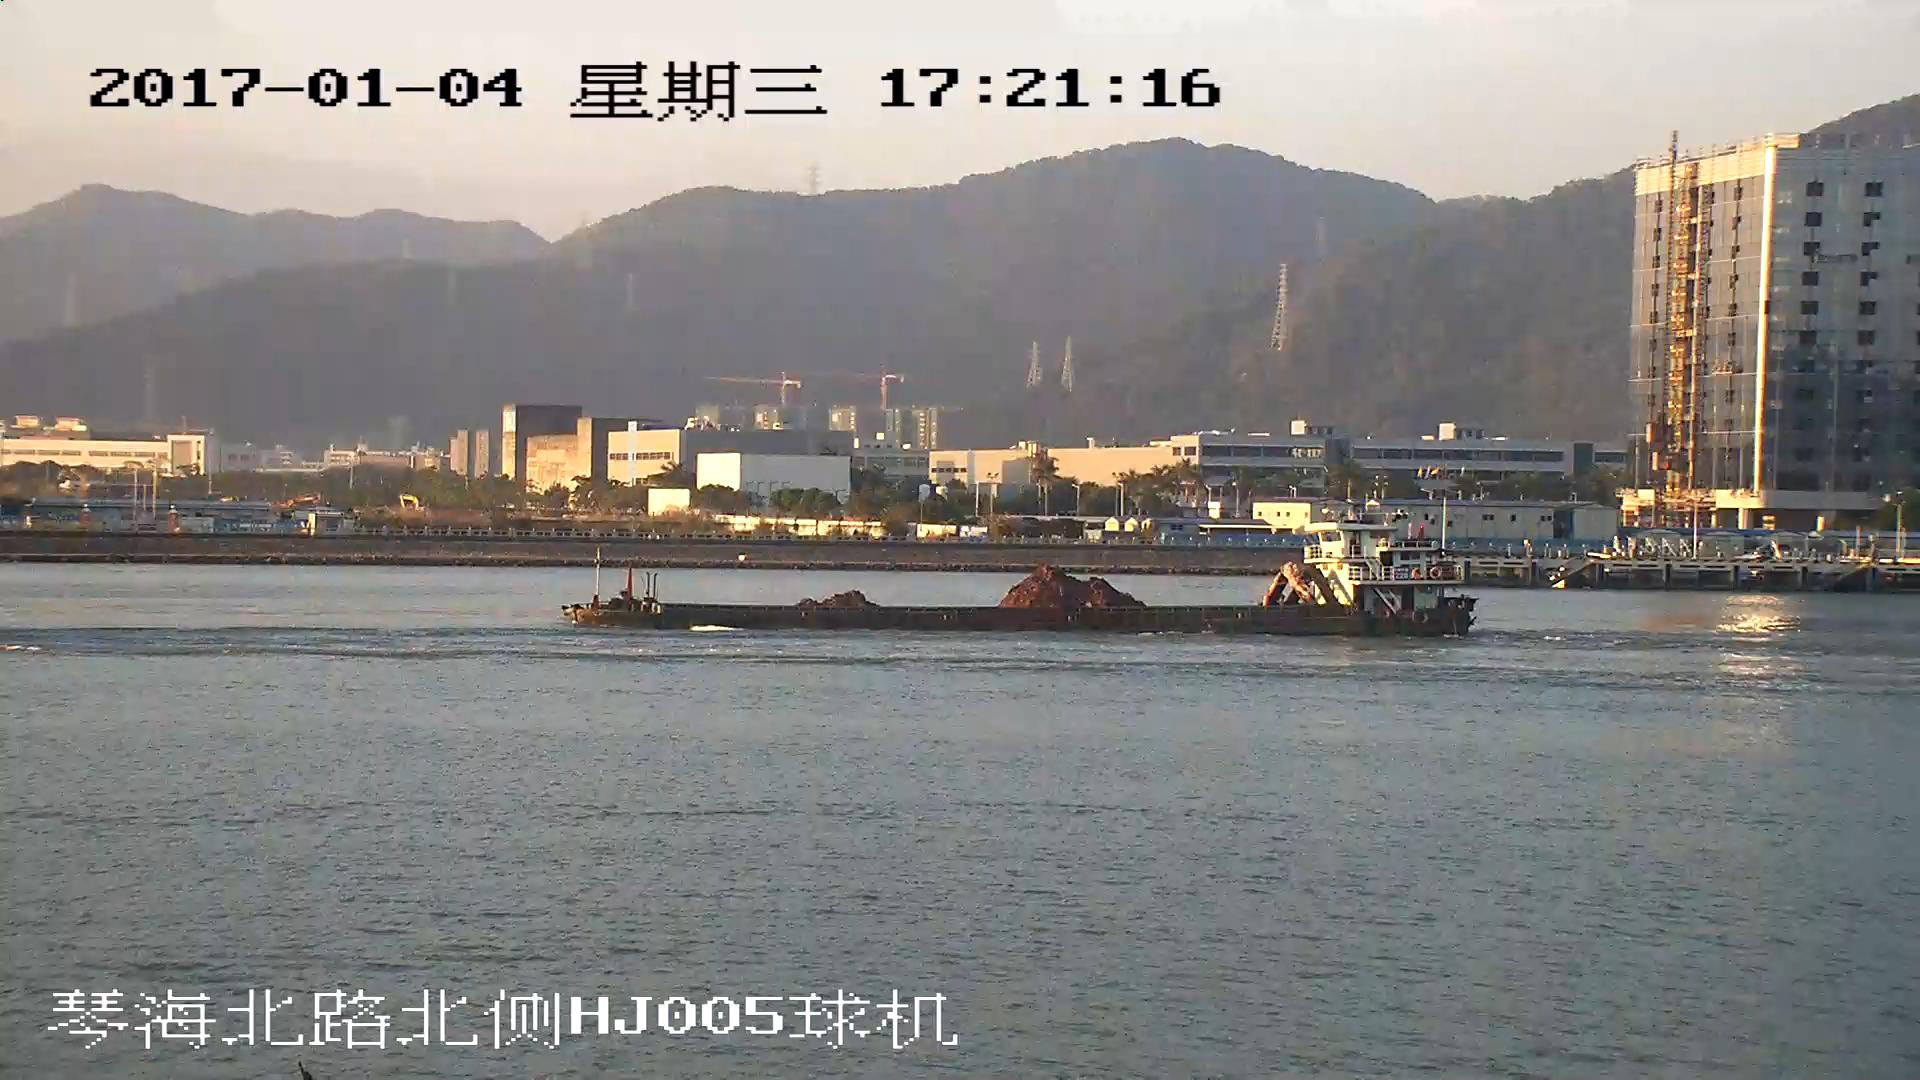ore carrier: (566, 518, 1472, 640)
